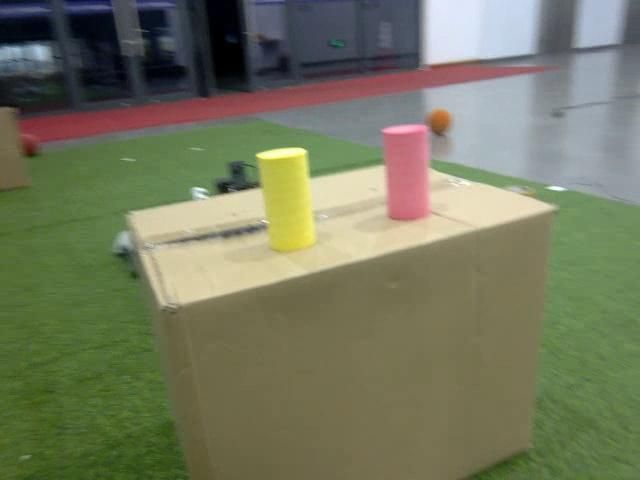orange_ball: (426, 107, 452, 137)
red_cylinder: (379, 121, 433, 223)
yellow_cylinder: (255, 144, 320, 256)
